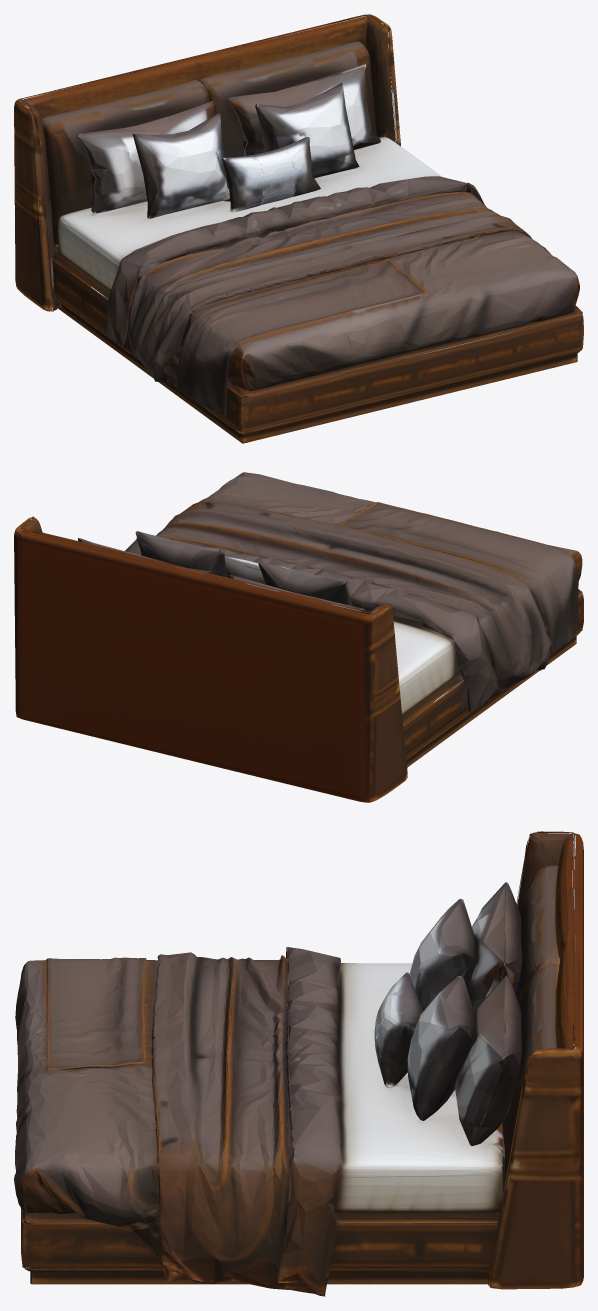
Rendered from edited_mesh.glb.
3 renders of one model, top to bottom at view 1: azimuth 30°, elevation 25°; view 2: azimuth 150°, elevation 25°; view 3: azimuth 270°, elevation 25°, orthographic. The views are drawn at different scales.
Visible parts, largest first — view 1: solid_001_wire; view 2: solid_001_wire; view 3: solid_001_wire.
Boxes of the visible parts, x1,y1,x2,y2 form: solid_001_wire: (14,14,583,443); solid_001_wire: (14,472,583,802); solid_001_wire: (14,831,583,1296).
Bounding box in the file's own units: 2 × 0.9449 × 1.97.
1 material, 1 textured.
